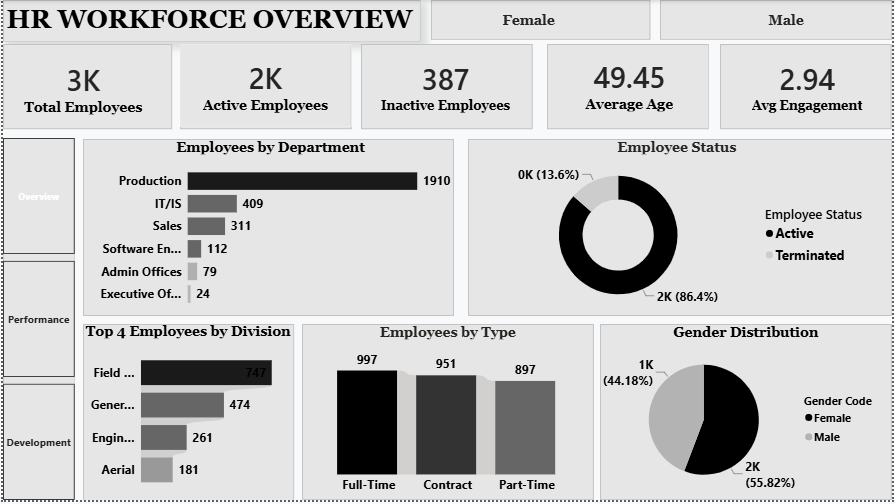

The dashboard page shown, as its layout file describes it:
{"tool":"powerbi","page":{"name":"Overview","canvas":[1280,720],"ordinal":0},"visuals":[{"type":"shape","box":[0,0,601.4,60.5],"z":0},{"type":"shape","box":[115.6,199.6,534,254.6],"z":1000},{"type":"textbox","box":[0,1.7,601.4,55.4],"z":2000},{"type":"clusteredBarChart","title":"Employees by Department ","fields":{"Category":["Cleaned Dataset.Department Type"],"Y":["Cleaned Dataset.Total Employees"]},"box":[121.1,199.6,528.5,254.6],"z":3000},{"type":"shape","box":[430,467,419.9,253.6],"z":4000},{"type":"shape","box":[668.9,199.6,611.1,254.6],"z":5000},{"type":"donutChart","title":" Employee Status","fields":{"Y":["Cleaned Dataset.Total Employees"],"Category":["Cleaned Dataset.Employee Status"]},"box":[668.9,199.6,601.5,254.6],"z":6000},{"type":"shape","box":[115.6,466.6,304.2,254.6],"z":7000},{"type":"barChart","title":"Top 4 Employees by Division","fields":{"Y":["Cleaned Dataset.Total Employees"],"Category":["Cleaned Dataset.Division"]},"box":[103.2,465.2,326.2,254.6],"z":8000},{"type":"shape","box":[860.1,467,419.9,253.6],"z":9000},{"type":"columnChart","title":" Employees by Type","fields":{"Category":["Cleaned Dataset.Employee Type"],"Y":["Cleaned Dataset.Total Employees"]},"box":[430,467,419.9,253.6],"z":10000},{"type":"pieChart","title":"Gender Distribution","fields":{"Y":["Cleaned Dataset.Total Employees"],"Category":["Cleaned Dataset.Gender Code"]},"box":[860.1,467,419.9,253.6],"z":11000},{"type":"shape","box":[0,63.8,243.6,122.6],"z":12000},{"type":"cardVisual","fields":{"Data":["Cleaned Dataset.Total Employees"]},"box":[0,67.2,231.8,115.9],"z":13000},{"type":"shape","box":[255.3,63.8,246.9,122.6],"z":14000},{"type":"cardVisual","fields":{"Data":["Cleaned Dataset.Active Employees"]},"box":[255.3,63.8,246.9,119.3],"z":15000},{"type":"shape","box":[515.7,63.8,246.9,122.6],"z":16000},{"type":"shape","box":[782.8,63.8,233.5,122.6],"z":17000},{"type":"cardVisual","fields":{"Data":["Cleaned Dataset.Inactive Employess"]},"box":[512.6,69.1,249.1,110.9],"z":18000},{"type":"shape","box":[1033.1,63.8,246.9,122.6],"z":19000},{"type":"shape","box":[616.5,0,315.8,57.1],"z":20000},{"type":"shape","box":[945.7,0,334.3,57.1],"z":21000},{"type":"cardVisual","fields":{"Data":["Cleaned Dataset.Average Age"]},"box":[787.8,63.8,228.5,115.9],"z":22000},{"type":"cardVisual","fields":{"Data":["Cleaned Dataset.Avg Engagement"]},"box":[1044.8,63.8,225.1,119.3],"z":23000},{"type":"advancedSlicerVisual","fields":{"Values":["Cleaned Dataset.Gender Code"]},"box":[616.5,0,653.4,55.4],"z":24000},{"type":"shape","box":[0,199,103.4,521],"z":25000},{"type":"pageNavigator","box":[0,199,103.4,521],"z":26000}]}

Visuals, with their boxes in screenshot pixels (x1, y1, x2, y2), scaled from the page's 1280x720 canvas onto the 895x504 screenshot:
shape: rect(0, 0, 421, 42)
shape: rect(81, 140, 454, 318)
textbox: rect(0, 1, 421, 40)
"Employees by Department " clusteredBarChart: rect(85, 140, 454, 318)
shape: rect(301, 327, 594, 503)
shape: rect(468, 140, 894, 318)
" Employee Status" donutChart: rect(468, 140, 888, 318)
shape: rect(81, 327, 294, 503)
"Top 4 Employees by Division" barChart: rect(72, 326, 300, 503)
shape: rect(601, 327, 894, 503)
" Employees by Type" columnChart: rect(301, 327, 594, 503)
"Gender Distribution" pieChart: rect(601, 327, 894, 503)
shape: rect(0, 45, 170, 130)
cardVisual - Cleaned Dataset.Total Employees: rect(0, 47, 162, 128)
shape: rect(179, 45, 351, 130)
cardVisual - Cleaned Dataset.Active Employees: rect(179, 45, 351, 128)
shape: rect(361, 45, 533, 130)
shape: rect(547, 45, 711, 130)
cardVisual - Cleaned Dataset.Inactive Employess: rect(358, 48, 533, 126)
shape: rect(722, 45, 894, 130)
shape: rect(431, 0, 652, 40)
shape: rect(661, 0, 894, 40)
cardVisual - Cleaned Dataset.Average Age: rect(551, 45, 711, 126)
cardVisual - Cleaned Dataset.Avg Engagement: rect(731, 45, 888, 128)
advancedSlicerVisual - Cleaned Dataset.Gender Code: rect(431, 0, 888, 39)
shape: rect(0, 139, 72, 503)
pageNavigator: rect(0, 139, 72, 503)
